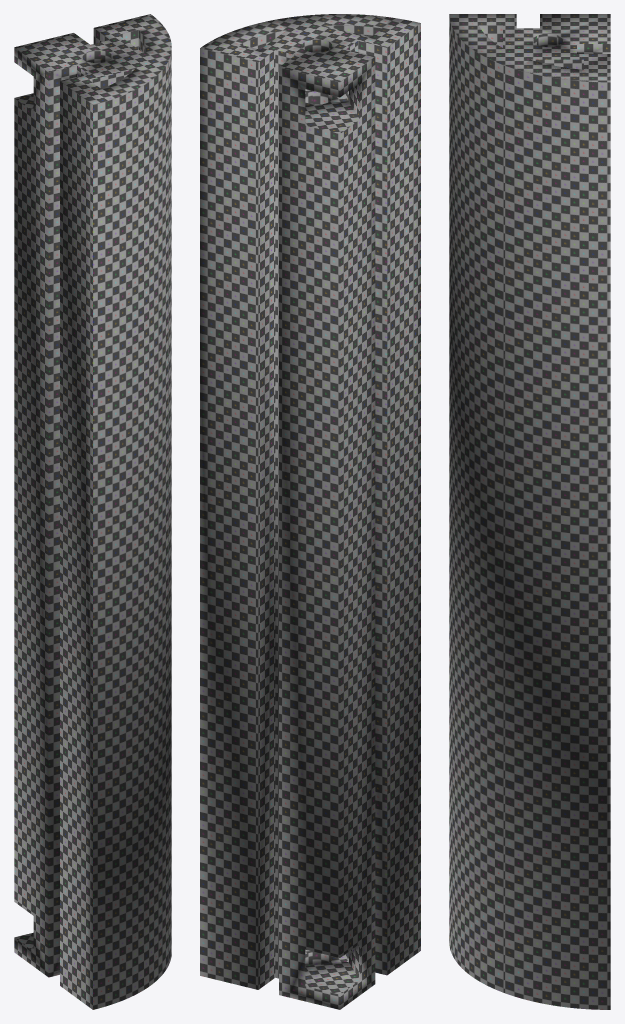
The model's file is edge.glb.
The picture shows the model from 3 angles, left to right: view 1: azimuth 30°, elevation 25°; view 2: azimuth 150°, elevation 25°; view 3: azimuth 270°, elevation 25°; orthographic projection. The views are drawn at different scales.
Visible parts, largest first — view 1: edge; view 2: edge; view 3: edge.
Part boxes in pixels (x1=…): edge: x1=14, y1=14, x2=171, y2=1009; edge: x1=200, y1=14, x2=420, y2=1009; edge: x1=449, y1=14, x2=610, y2=1009.
Size of the model in its own units: 12 by 76 by 12.
Materials: 1 (1 with a texture image).
